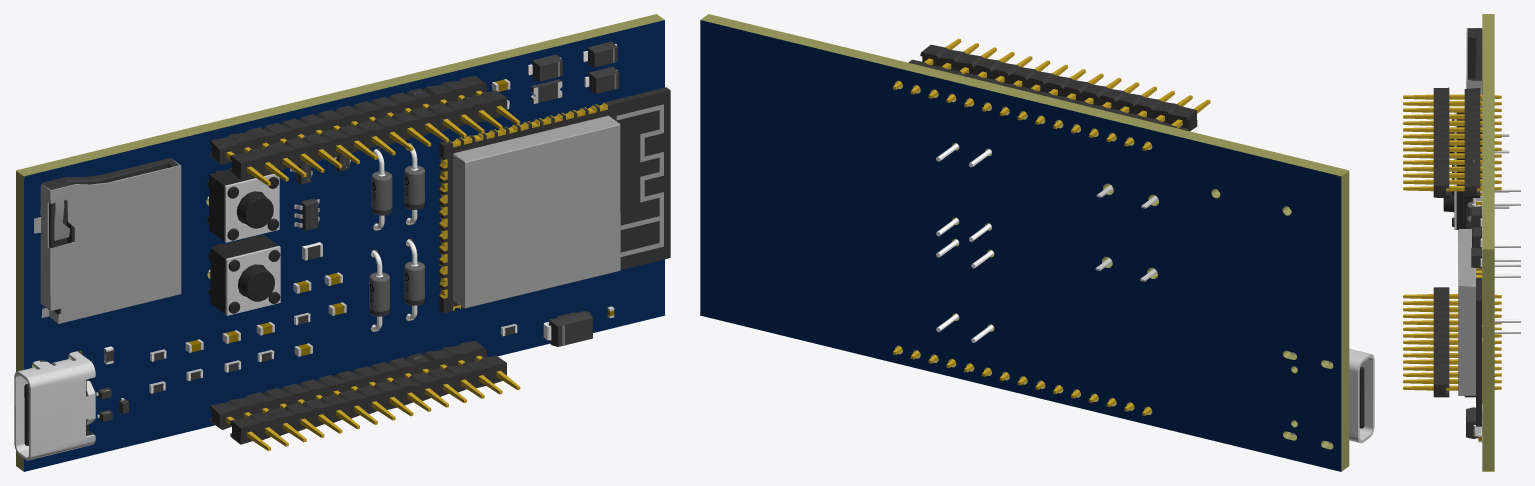
File: 3D_PCB1_2026-10-27.obj
3 views of the same model, side by side, from view 1: azimuth 30°, elevation 25°; view 2: azimuth 150°, elevation 25°; view 3: azimuth 270°, elevation 25° (orthographic). The views are drawn at different scales.
Size of the model in its own units: 73.18 by 31.72 by 15.23.
